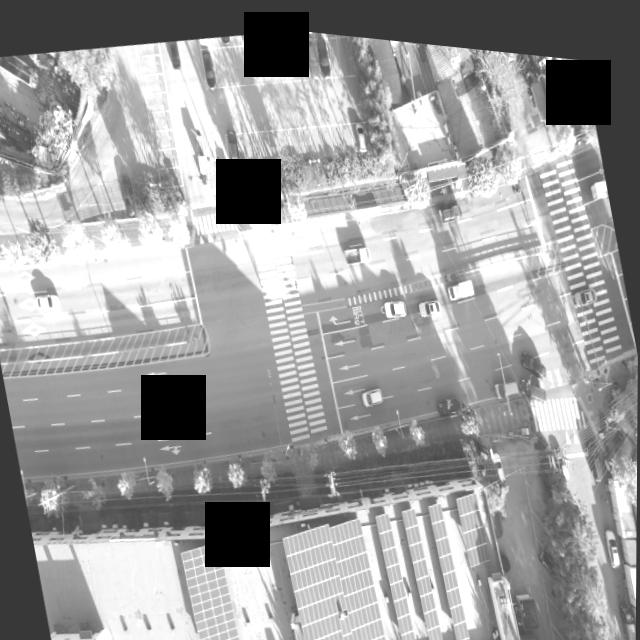car: (521, 332, 549, 372), (519, 362, 548, 394), (312, 28, 332, 74), (302, 28, 321, 74), (536, 530, 560, 566), (223, 123, 242, 168), (118, 173, 137, 216), (587, 426, 604, 469), (489, 438, 508, 476), (200, 45, 217, 85), (491, 364, 519, 388), (381, 288, 407, 312), (605, 514, 620, 553), (360, 375, 384, 399), (352, 110, 368, 146), (36, 290, 61, 312), (571, 272, 596, 294), (418, 287, 442, 309), (554, 437, 571, 468), (165, 36, 179, 65)
small_truck: (618, 587, 637, 638), (445, 267, 476, 295), (342, 232, 371, 259), (435, 383, 464, 409), (435, 190, 460, 213), (588, 163, 610, 189)
